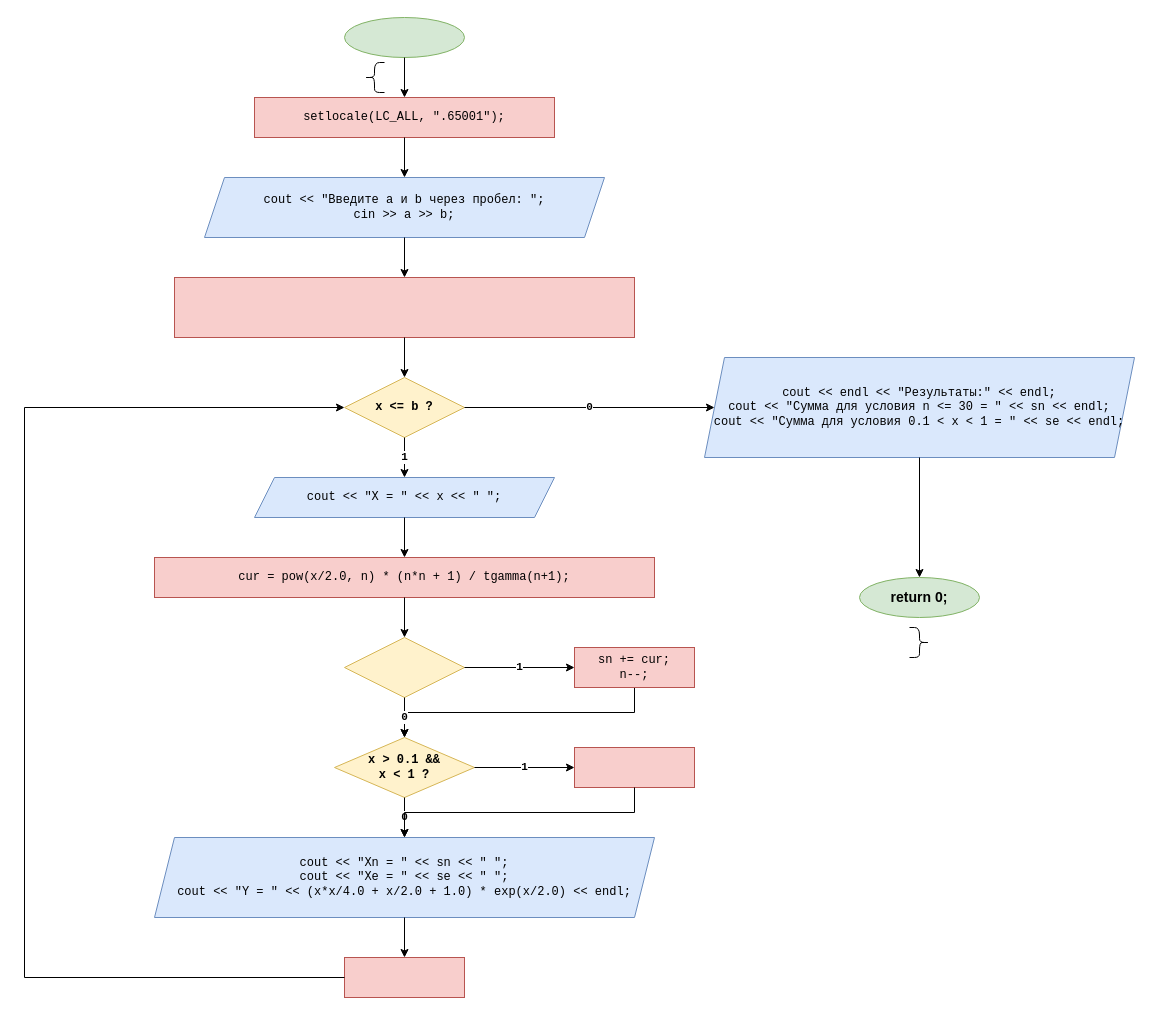
This 1152x1015 diagram has some shape labels left out. The shapes that lost their labels are listed below. From the top down, each one's centre as x and y in pixels, then its label:
At point 404,37: "Начало".
At point 404,307: "double k = (b-a)/10, n = 30, se = 0, sn = 0, cur; double& x = a;".
At point 404,667: "n > 0 ?".
At point 634,767: "se += cur;".
At point 404,977: "x += k;".
